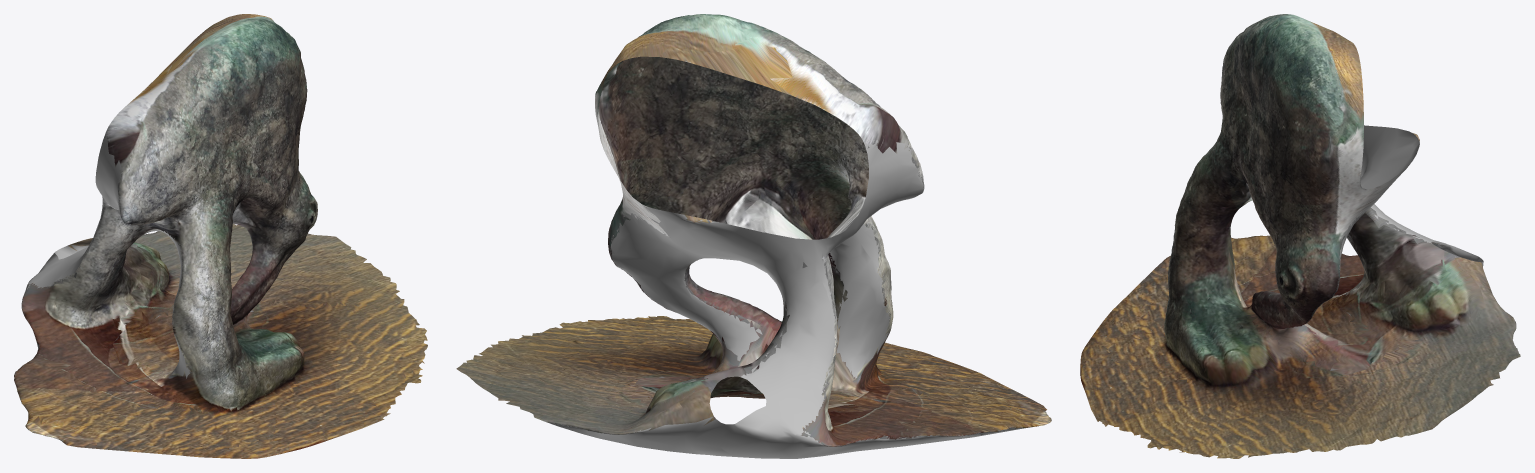
File: kiekeboeBird.glb
3 renders of one model, left to right at view 1: azimuth 30°, elevation 25°; view 2: azimuth 150°, elevation 25°; view 3: azimuth 270°, elevation 25°, orthographic. The views are drawn at different scales.
Visible parts, largest first — view 1: kiekeboeBird; view 2: kiekeboeBird; view 3: kiekeboeBird.
Part boxes in pixels (box(x1,y1,x2,y2)): kiekeboeBird: box(14, 14, 427, 458); kiekeboeBird: box(456, 14, 1051, 458); kiekeboeBird: box(1080, 14, 1520, 458).
Bounding box in the file's own units: 22.93 × 17.79 × 19.13.
Materials: 2 (1 with a texture image).
